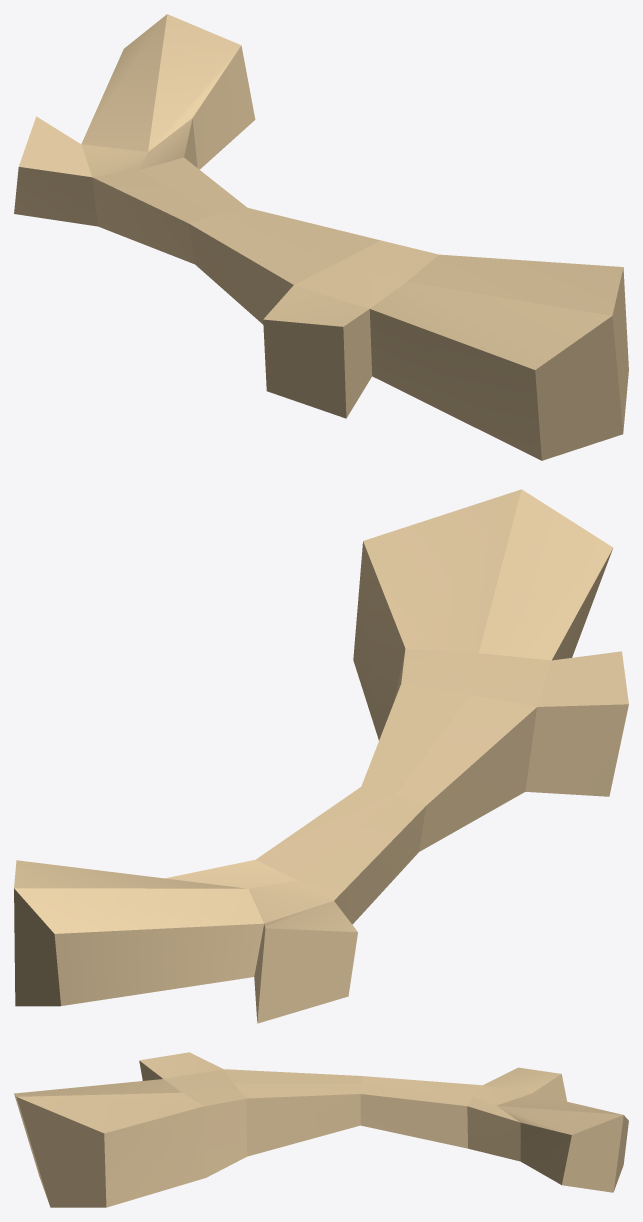
The model's file is Bone_3__0.glb.
3 views of the same model, one above another, from view 1: azimuth 30°, elevation 25°; view 2: azimuth 150°, elevation 25°; view 3: azimuth 270°, elevation 25° (orthographic). The views are drawn at different scales.
Visible parts, largest first — view 1: Bone_3__0; view 2: Bone_3__0; view 3: Bone_3__0.
Boxes of the visible parts, box(x1,y1,x2,y2) form: Bone_3__0: box(14, 14, 628, 460); Bone_3__0: box(14, 489, 628, 1023); Bone_3__0: box(14, 1052, 628, 1207).
Bounding box in the file's own units: 0.1846 × 0.0835 × 0.4711.
1 material, 1 textured.
